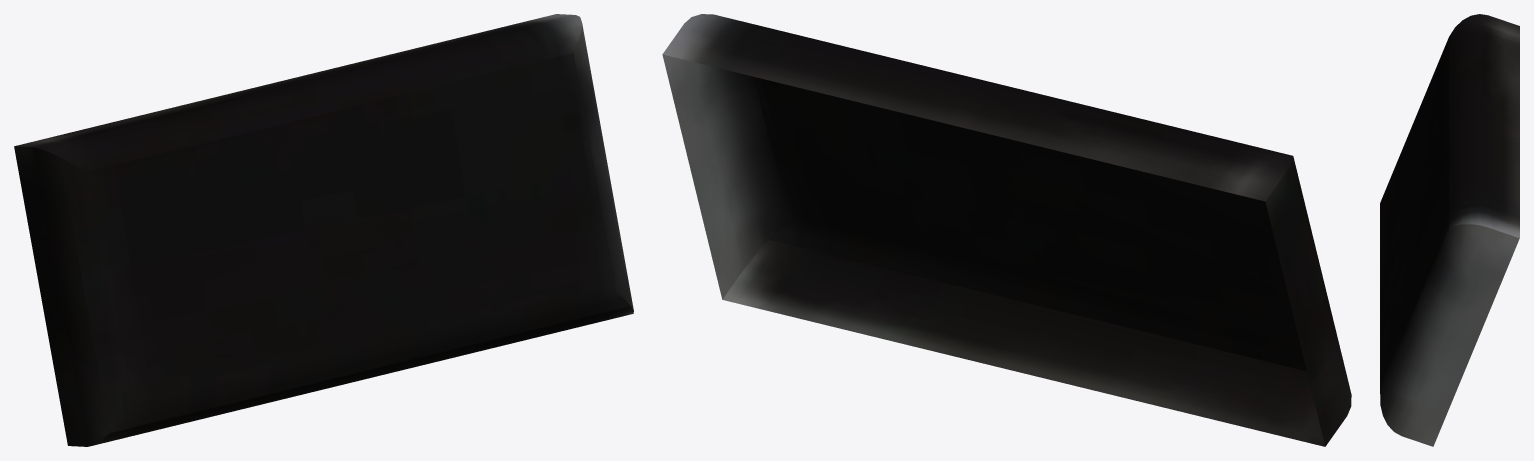
File: link_4__button-5.glb
The picture shows the model from 3 angles, left to right: view 1: azimuth 30°, elevation 25°; view 2: azimuth 150°, elevation 25°; view 3: azimuth 270°, elevation 25°; orthographic projection. The views are drawn at different scales.
Parts seen in each view (by area): view 1: geometry_0; view 2: geometry_0; view 3: geometry_0.
Part boxes in pixels (x1,y1,x2,y2): geometry_0: (14,14,633,446); geometry_0: (662,14,1351,446); geometry_0: (1380,14,1519,446).
Size of the model in its own units: 0.0354 by 0.0172 by 0.00985.
Materials: 1 (1 with a texture image).
